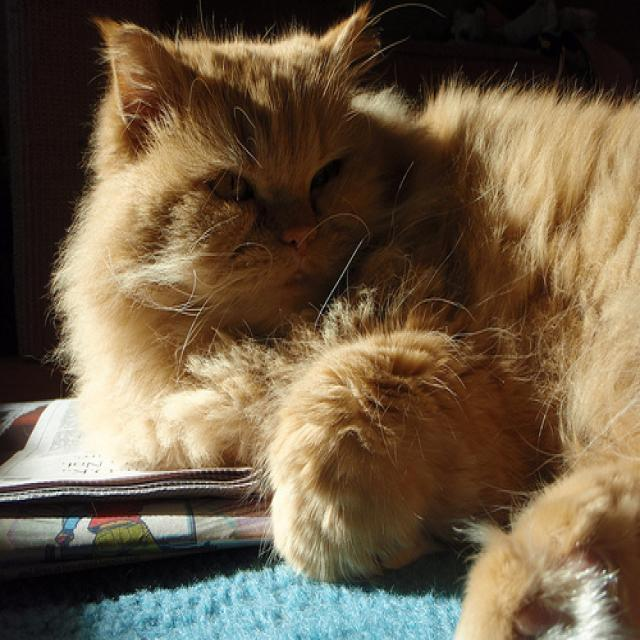Persian: (83, 0, 412, 336)
